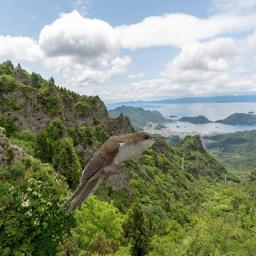Cuckoo: (58, 131, 166, 212)
